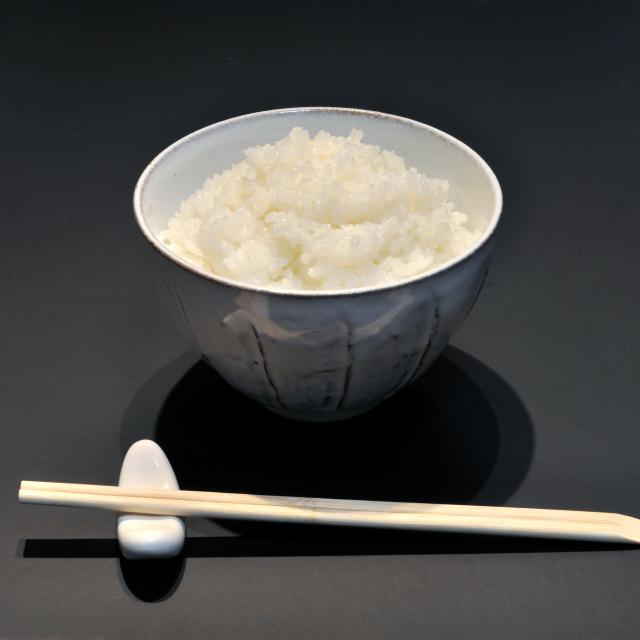rice: (166, 126, 489, 286)
